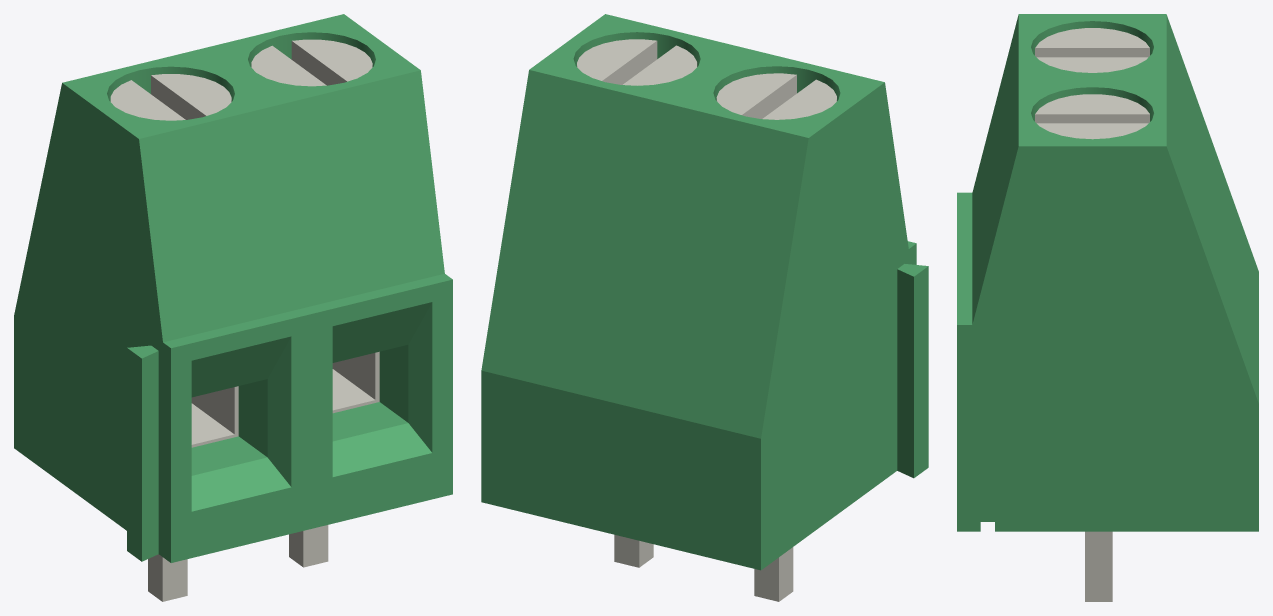
File: TerminalBlock_Phoenix__TerminalBlock_Phoenix_MKDS-1_5-2-5.08_1x02_P5.08mm_Horizontal.glb
3 renders of one model, left to right at view 1: azimuth 30°, elevation 25°; view 2: azimuth 150°, elevation 25°; view 3: azimuth 270°, elevation 25°, orthographic. The views are drawn at different scales.
Parts seen in each view (by area): view 1: TerminalBlock_Phoenix_MKDS-1,5-2-5.08_1x02_P5.08mm_Horizonta; view 2: TerminalBlock_Phoenix_MKDS-1,5-2-5.08_1x02_P5.08mm_Horizonta; view 3: TerminalBlock_Phoenix_MKDS-1,5-2-5.08_1x02_P5.08mm_Horizonta.
Boxes of the visible parts, <box> form: TerminalBlock_Phoenix_MKDS-1,5-2-5.08_1x02_P5.08mm_Horizonta: <box>14,14,452,601</box>; TerminalBlock_Phoenix_MKDS-1,5-2-5.08_1x02_P5.08mm_Horizonta: <box>481,14,928,601</box>; TerminalBlock_Phoenix_MKDS-1,5-2-5.08_1x02_P5.08mm_Horizonta: <box>957,14,1258,601</box>.
Bounding box in the file's own units: 0.0109 × 0.0173 × 0.0098.
